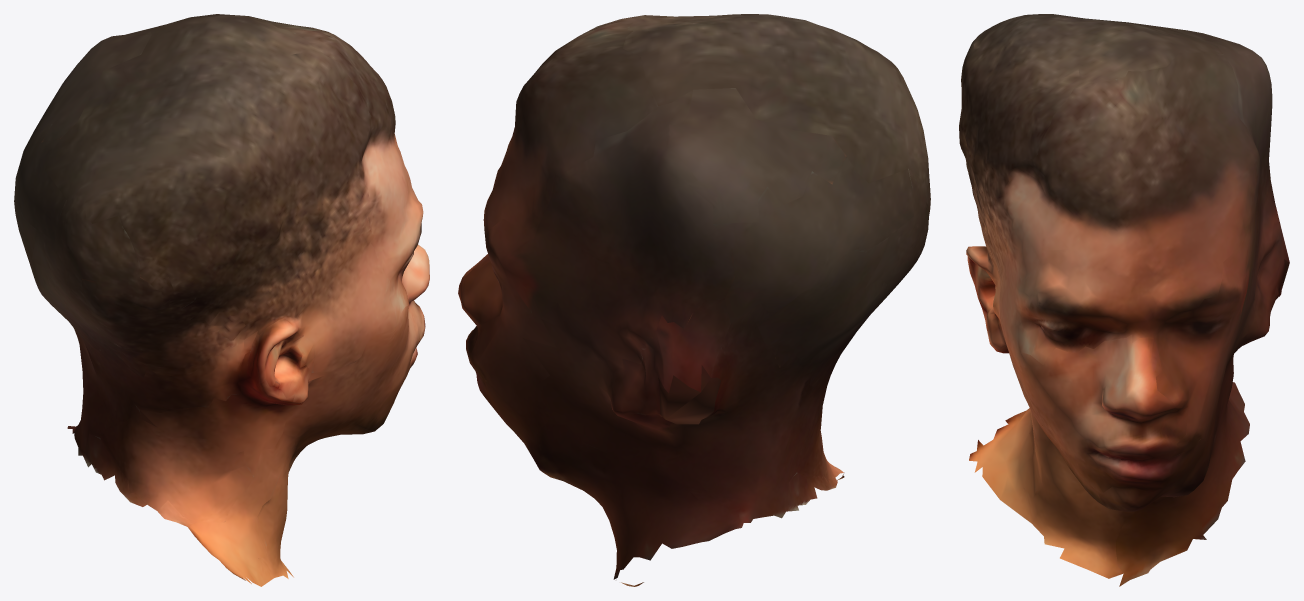
The model's file is josh1.glb.
3 renders of one model, left to right at view 1: azimuth 30°, elevation 25°; view 2: azimuth 150°, elevation 25°; view 3: azimuth 270°, elevation 25°, orthographic. The views are drawn at different scales.
Parts seen in each view (by area): view 1: naked_steps; view 2: naked_steps; view 3: naked_steps.
Part boxes in pixels (x1,y1,x2,y2): naked_steps: (14, 14, 429, 586); naked_steps: (458, 14, 930, 586); naked_steps: (959, 14, 1289, 586).
Size of the model in its own units: 0.3612 by 0.4691 by 0.2673.
Materials: 2 (1 with a texture image).
